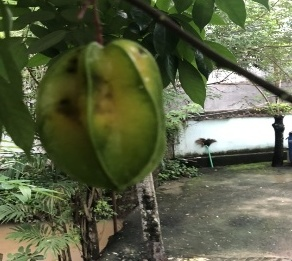Khe: (31, 37, 170, 196)
